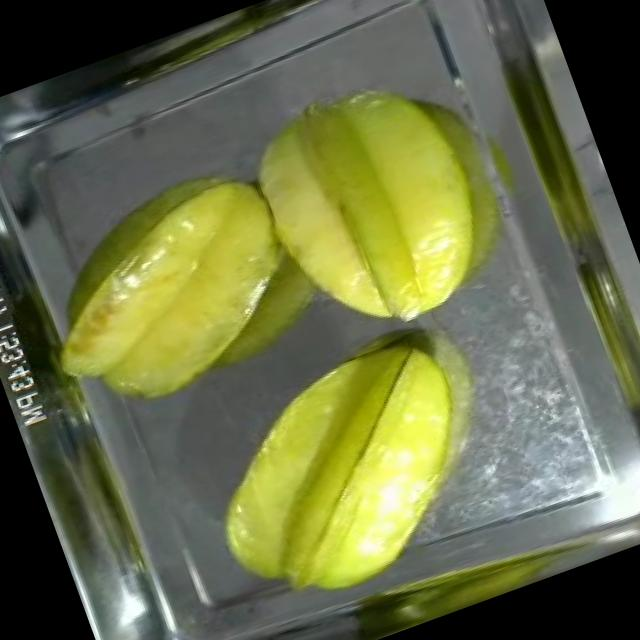fruit: (163, 310, 524, 640), (224, 43, 525, 366), (7, 154, 329, 442)
